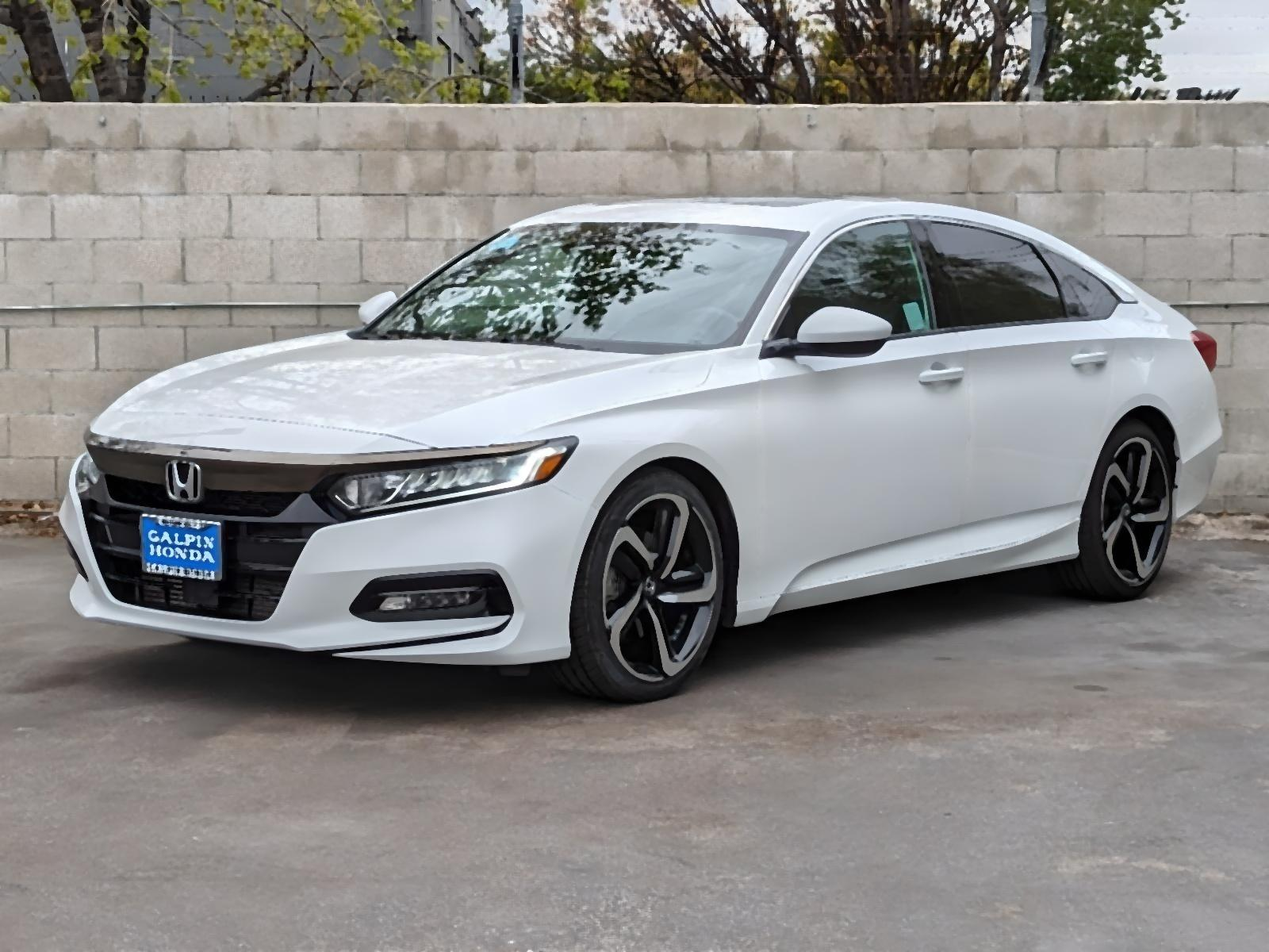Car hood: (81, 324, 720, 462)
Fender - -F-L-: (549, 341, 771, 638)
Fender - -R-L-: (1095, 324, 1221, 465)
Front bumper: (54, 500, 593, 672)
Headlight - -L-: (322, 424, 582, 527)
Headlight - -R-: (57, 432, 115, 499)
Passenger-s door - -F-L-: (770, 197, 952, 599)
Passenger-s door - -R-L-: (950, 208, 1125, 565)
Rear bumper: (1164, 435, 1241, 528)
Rear light - -L-: (1174, 316, 1232, 378)
Side bumper - -L-: (722, 514, 1094, 633)
Side mirror - -L-: (774, 295, 901, 371)
Side mirror - -R-: (338, 264, 416, 328)
